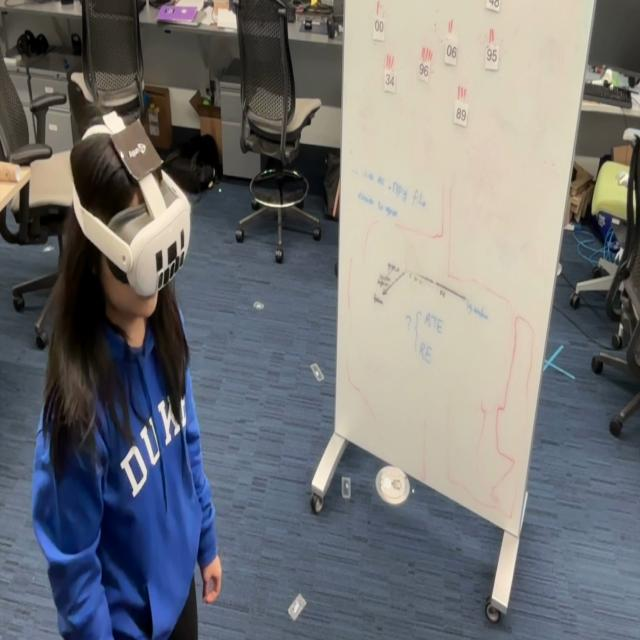Headset: (69, 119, 192, 298)
UnityLogo: (109, 115, 164, 184)
